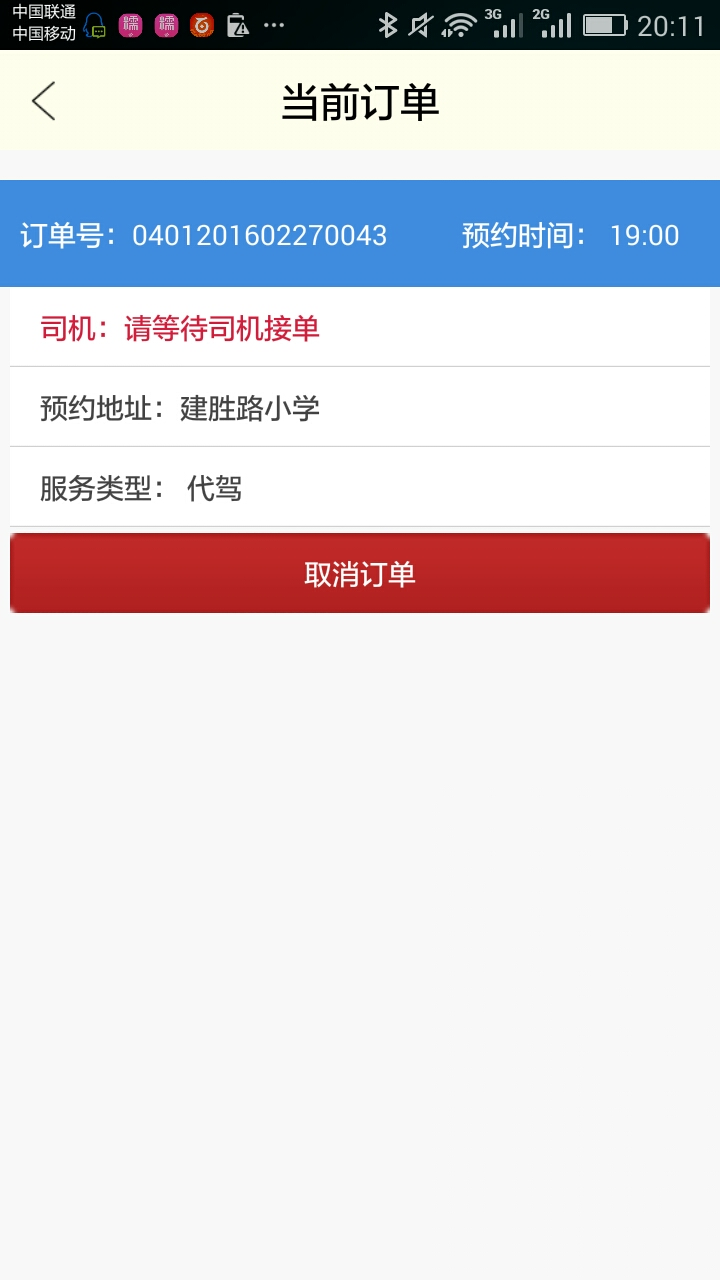textview: (1, 173, 720, 524)
